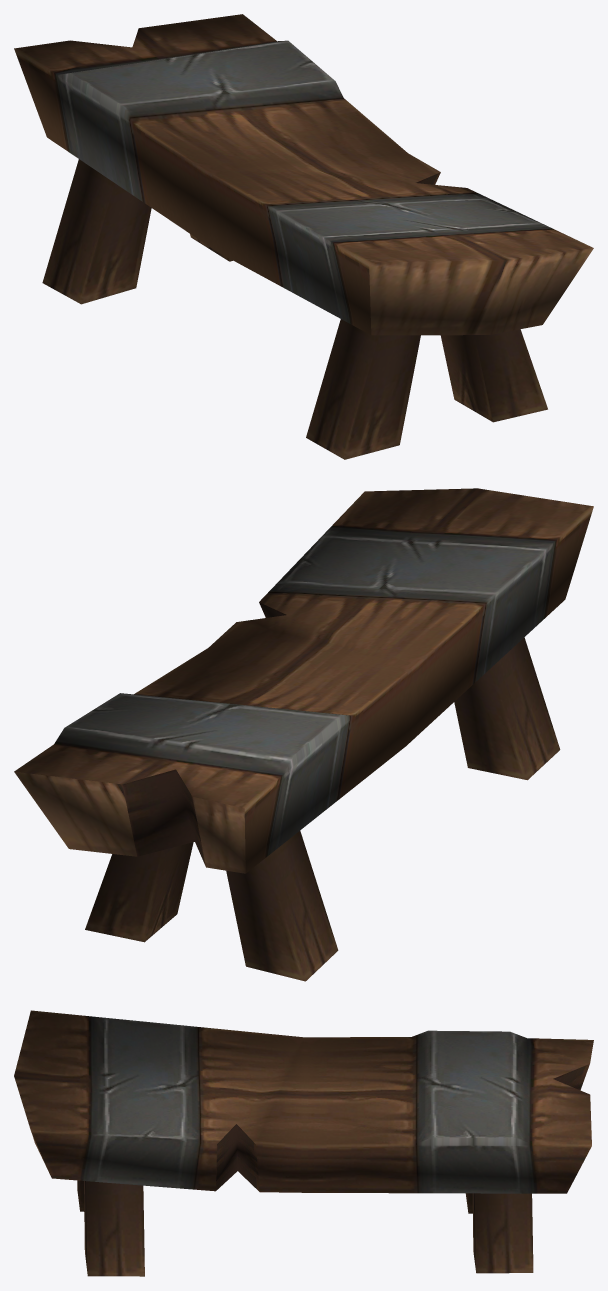
File: Anmaodao_xiaomudeng.FBX
3 renders of one model, top to bottom at view 1: azimuth 30°, elevation 25°; view 2: azimuth 150°, elevation 25°; view 3: azimuth 270°, elevation 25°, orthographic. The views are drawn at different scales.
Parts seen in each view (by area): view 1: Anmaodao_xiaomudeng; view 2: Anmaodao_xiaomudeng; view 3: Anmaodao_xiaomudeng.
Boxes of the visible parts, <box> form: Anmaodao_xiaomudeng: <box>14,14,593,459</box>; Anmaodao_xiaomudeng: <box>14,488,593,981</box>; Anmaodao_xiaomudeng: <box>14,1010,593,1276</box>.
Size of the model in its own units: 26.29 by 66.33 by 24.23.
